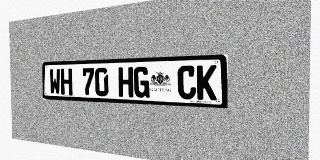0: (95, 67, 108, 96)
7: (82, 68, 95, 96)
C: (177, 65, 196, 99)
G: (133, 66, 149, 98)
H: (118, 67, 133, 97), (60, 68, 72, 95)
K: (197, 65, 217, 100)
W: (49, 69, 61, 95)
